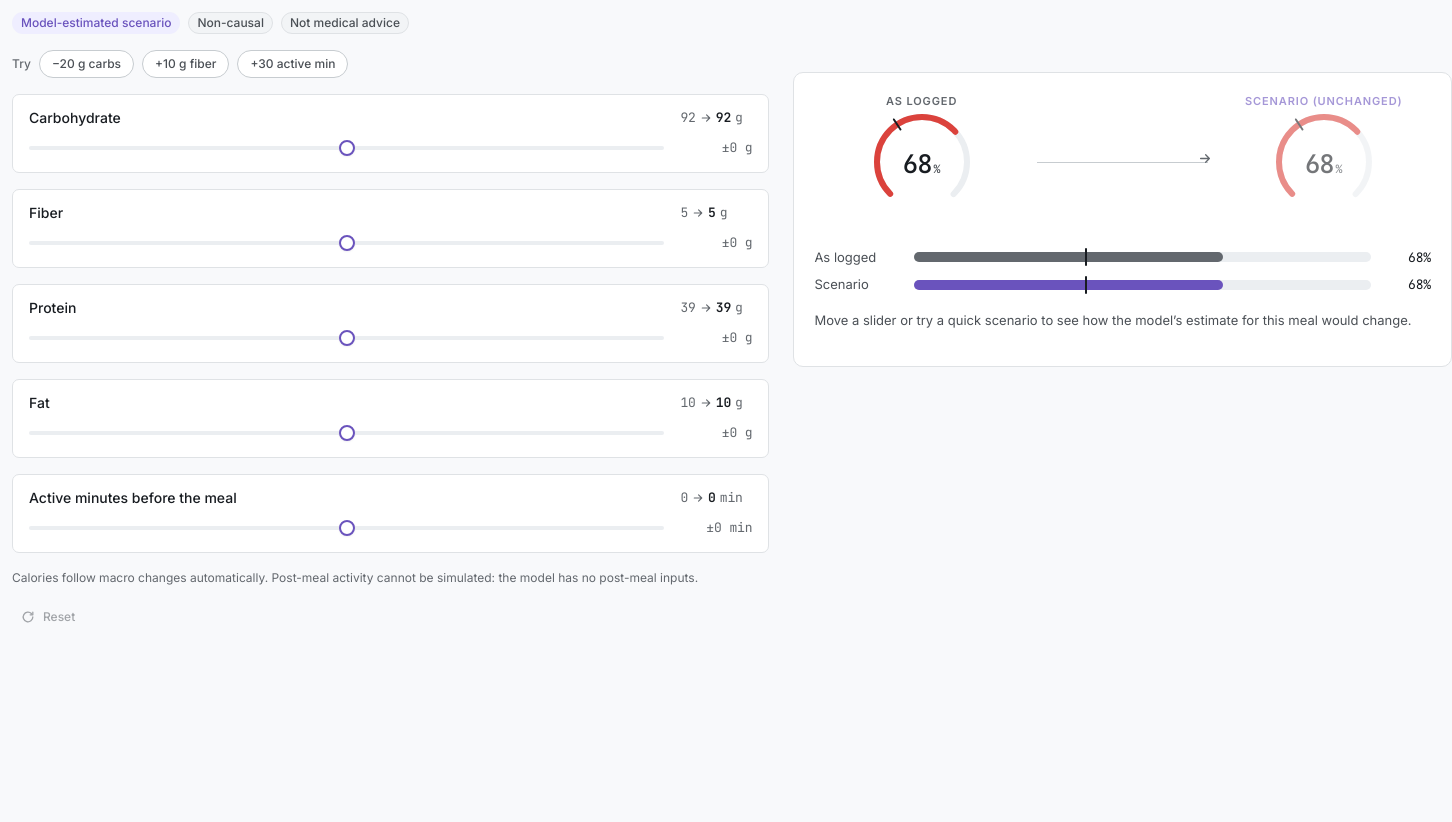
what-if comparison › shows the server's delta and the threshold crossing once settled
The image size is (1452, 822).
Set the slider labelled "Carbohydrate" to "-20": (285, 148) [29,136,664,160]
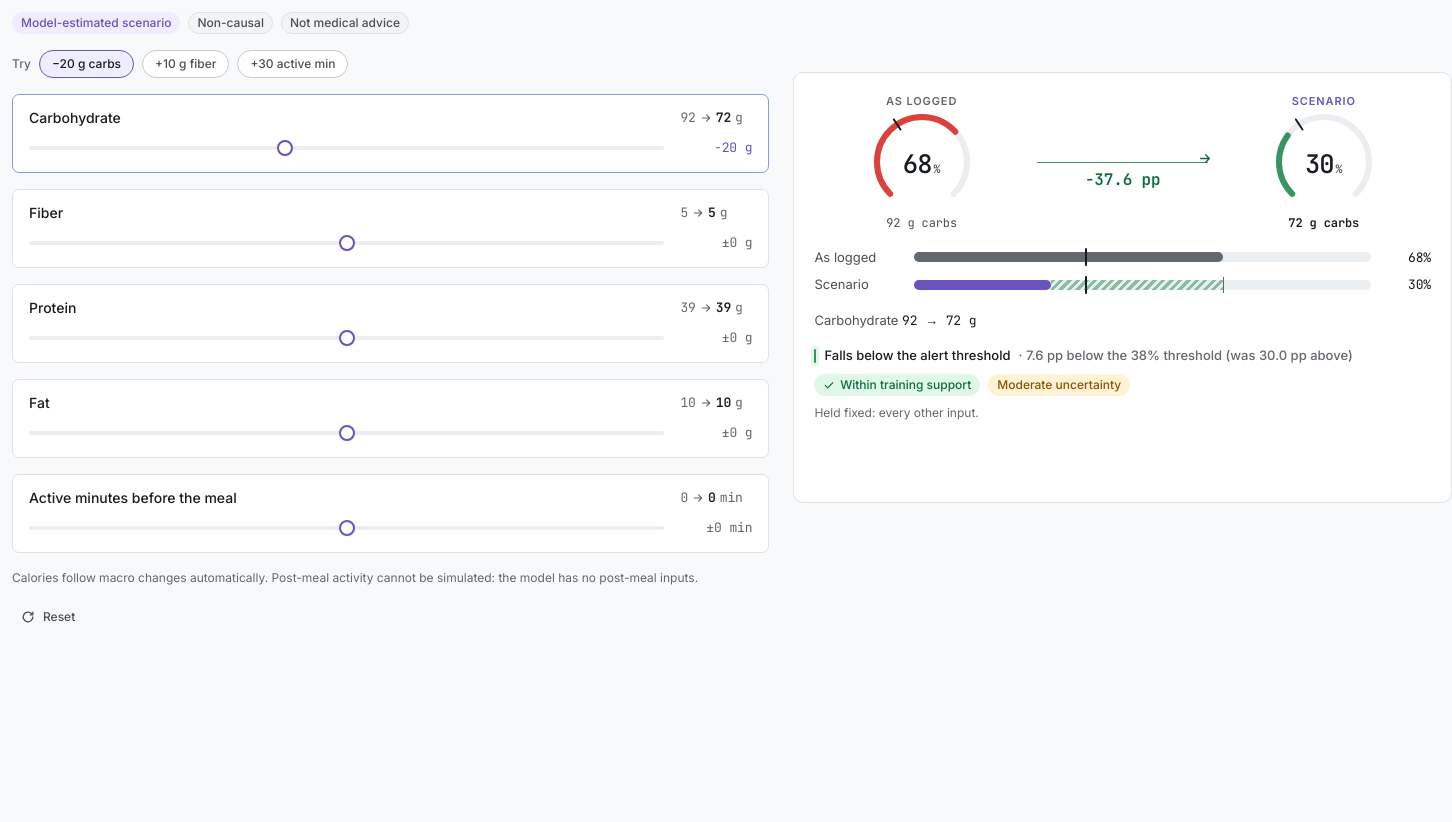
Check: the text "Falls below the alert threshold" is shown, box [824,347,1010,363]
Check: the text "−37.6 pp" is shown, box [1085,168,1160,192]
Check: the text "Within training support" is shown, box [814,374,980,396]
